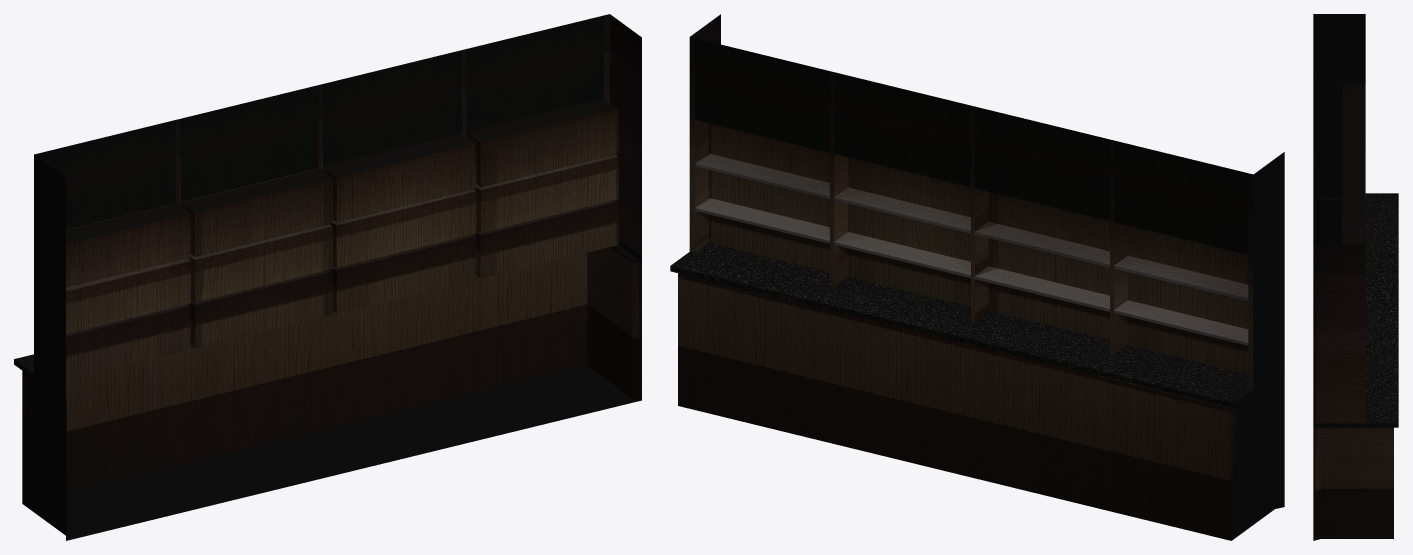
Rendered from Shelf.obj.
3 views of the same model, side by side, from view 1: azimuth 30°, elevation 25°; view 2: azimuth 150°, elevation 25°; view 3: azimuth 270°, elevation 25° (orthographic). The views are drawn at different scales.
Parts seen in each view (by area): view 1: Plane.002_Plane.008; view 2: Plane.002_Plane.008; view 3: Plane.002_Plane.008.
Boxes of the visible parts, left/top/right/bottom form: Plane.002_Plane.008: left=14, top=14, right=641, bottom=540; Plane.002_Plane.008: left=670, top=14, right=1284, bottom=540; Plane.002_Plane.008: left=1313, top=14, right=1398, bottom=540.
Bounding box in the file's own units: 28.89 × 17.41 × 4.52.
1 material, 1 textured.
